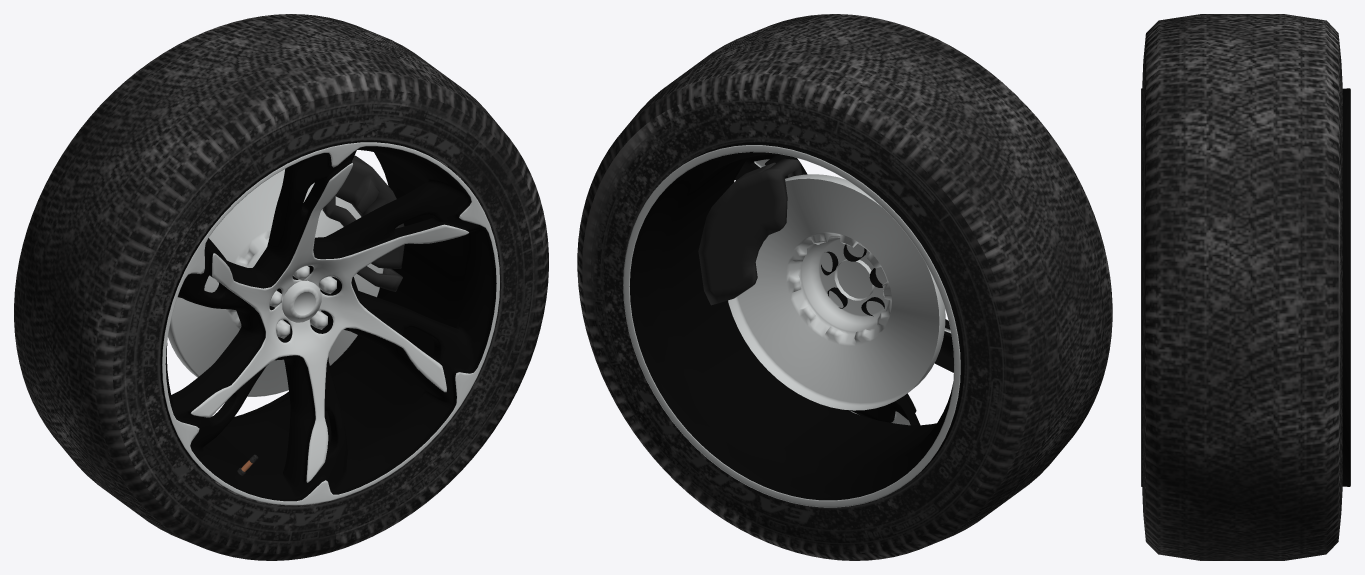
3 renders of one model, left to right at view 1: azimuth 30°, elevation 25°; view 2: azimuth 150°, elevation 25°; view 3: azimuth 270°, elevation 25°, orthographic. The views are drawn at different scales.
Parts seen in each view (by area): view 1: shin_LP_1, disk_LP_4, tormoz_LP_2, support_LP_3, gaik_LP_5; view 2: shin_LP_1, disk_LP_4, tormoz_LP_2, support_LP_3; view 3: shin_LP_1, disk_LP_4.
Boxes of the visible parts, box(x1,y1,x2,y2) form: shin_LP_1: box(14, 14, 548, 560); disk_LP_4: box(160, 140, 499, 505); tormoz_LP_2: box(168, 169, 383, 396); support_LP_3: box(322, 155, 404, 291); gaik_LP_5: box(269, 266, 336, 338); shin_LP_1: box(577, 14, 1112, 560); disk_LP_4: box(623, 142, 964, 507); tormoz_LP_2: box(728, 174, 945, 410); support_LP_3: box(698, 158, 802, 305); shin_LP_1: box(1142, 14, 1342, 560); disk_LP_4: box(1141, 88, 1350, 486).
Bounding box in the file's own units: 2.55 × 2.55 × 0.9779.
Materials: 1 (1 with a texture image).
